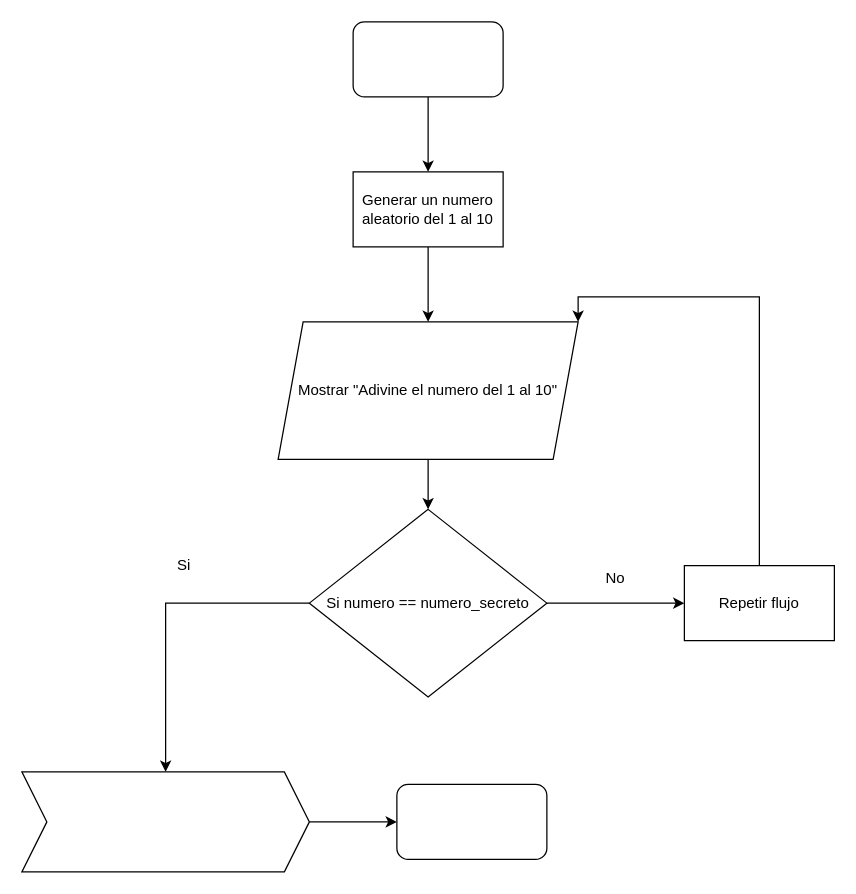
Some shapes in this 856 by 894 pixel diagram are drawn without their labels. Each missing label, with the centre of its shape:
Inicio: the point at 427,59
Mostrar "Adivino el numero secreto": the point at 165,821
